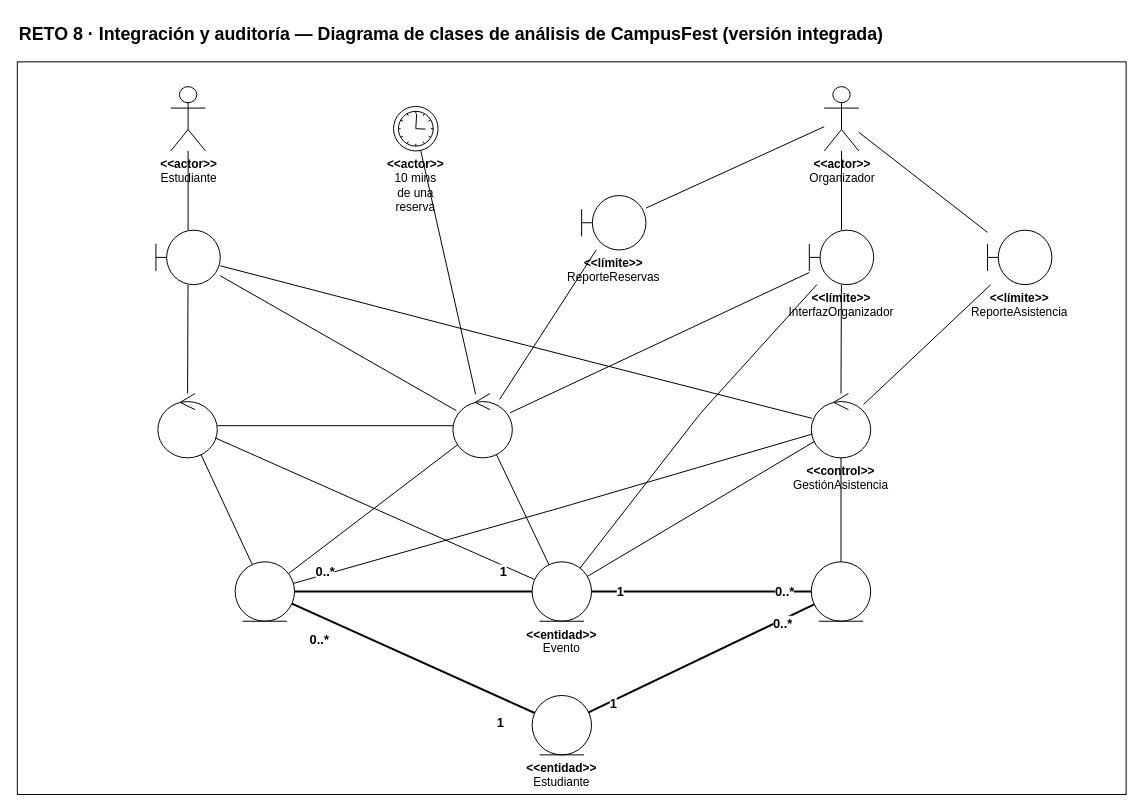
Some shapes in this 1143 by 812 pixel diagram are drawn without their labels. Here are the shapes that lost their labels. From the top down, the centre of each, then its label:
At point (187, 257): "<<límite>> PantallaEventos".
At point (187, 425): "<<control>> CalcularDisponibilidad".
At point (482, 425): "<<control>> GestiónReserva".
At point (264, 591): "<<entidad>> Reserva".
At point (840, 591): "<<entidad>> Asistencia".
